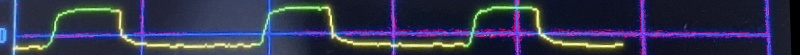normal_pressure: (8, 0, 632, 55)
